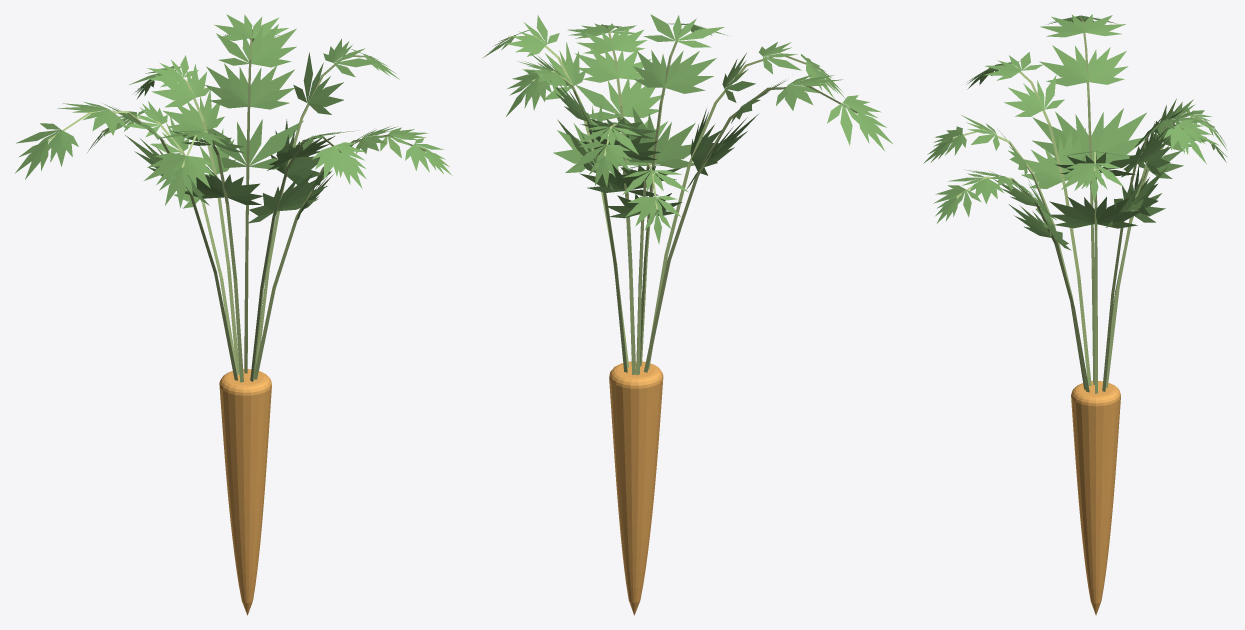
File: carrot_v12.glb
3 views of the same model, side by side, from view 1: azimuth 30°, elevation 25°; view 2: azimuth 150°, elevation 25°; view 3: azimuth 270°, elevation 25° (orthographic). The views are drawn at different scales.
Parts seen in each view (by area): view 1: leaves, root, petioles; view 2: leaves, root, petioles; view 3: leaves, root, petioles.
Part boxes in pixels (x1,y1,x2,y2): leaves: [15, 14, 452, 224]; root: [219, 369, 271, 615]; petioles: [47, 30, 425, 382]; leaves: [482, 14, 893, 244]; root: [609, 361, 663, 615]; petioles: [508, 24, 857, 375]; leaves: [923, 14, 1227, 250]; root: [1071, 381, 1120, 615]; petioles: [953, 16, 1214, 393].
Size of the model in its own units: 0.2917 by 0.4023 by 0.2148.
